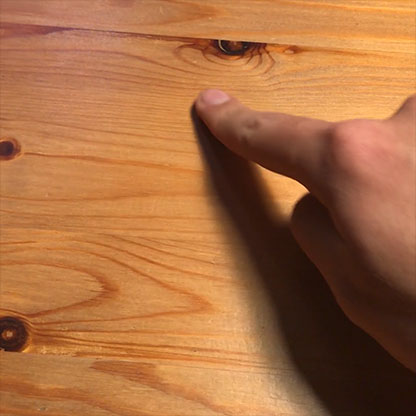fingertip: (189, 79, 240, 119)
